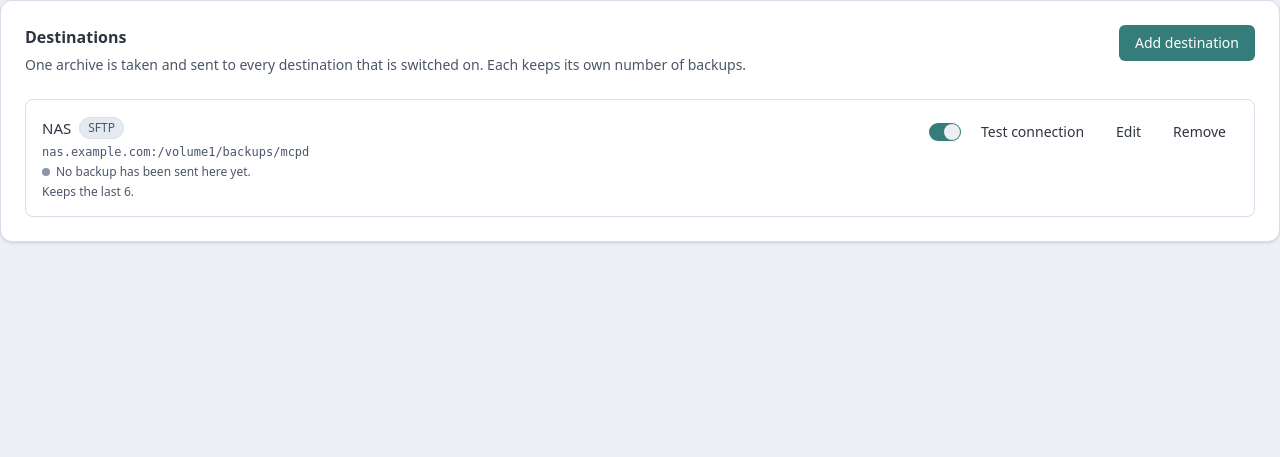
Test: the backup destinations list › shows the key an SFTP server presented
Click the button "Test connection". click: (1032, 132)
box: [969,116,1096,148]
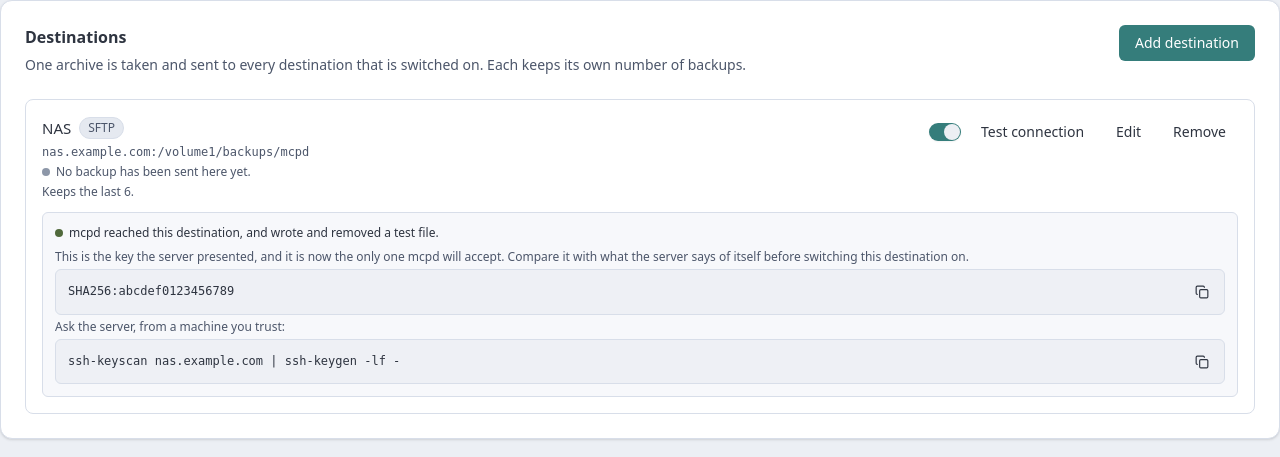
Expected: the text "SHA256:abcdef0123456789" is shown, [68,284,234,298]
Expected: the text "Compare it with what the server says" is shown, [55,248,969,265]
Expected: the text "ssh-keyscan nas.example.com | ssh-keygen -lf -" is shown, [68,354,400,368]
